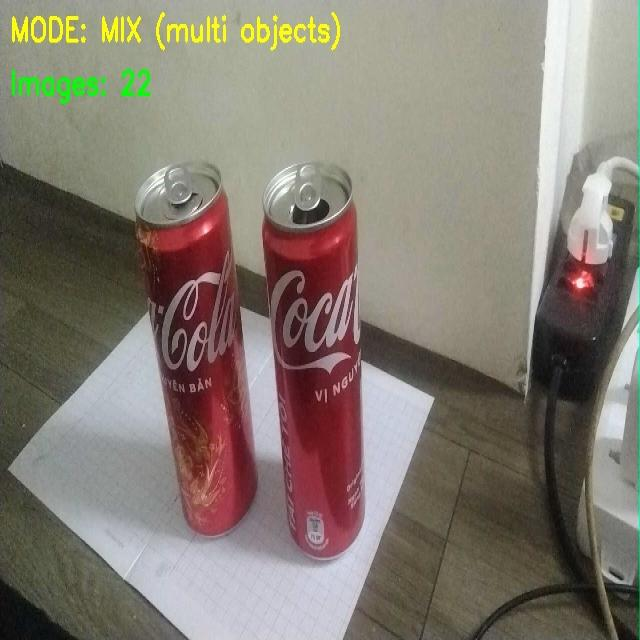Coca: (111, 140, 254, 533)
Coca_open: (260, 147, 429, 593)
